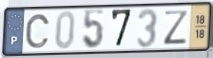0: (54, 10, 77, 51)
3: (135, 6, 160, 51)
5: (82, 8, 105, 52)
7: (110, 8, 133, 50)
C: (24, 13, 51, 50)
Z: (163, 9, 191, 46)
